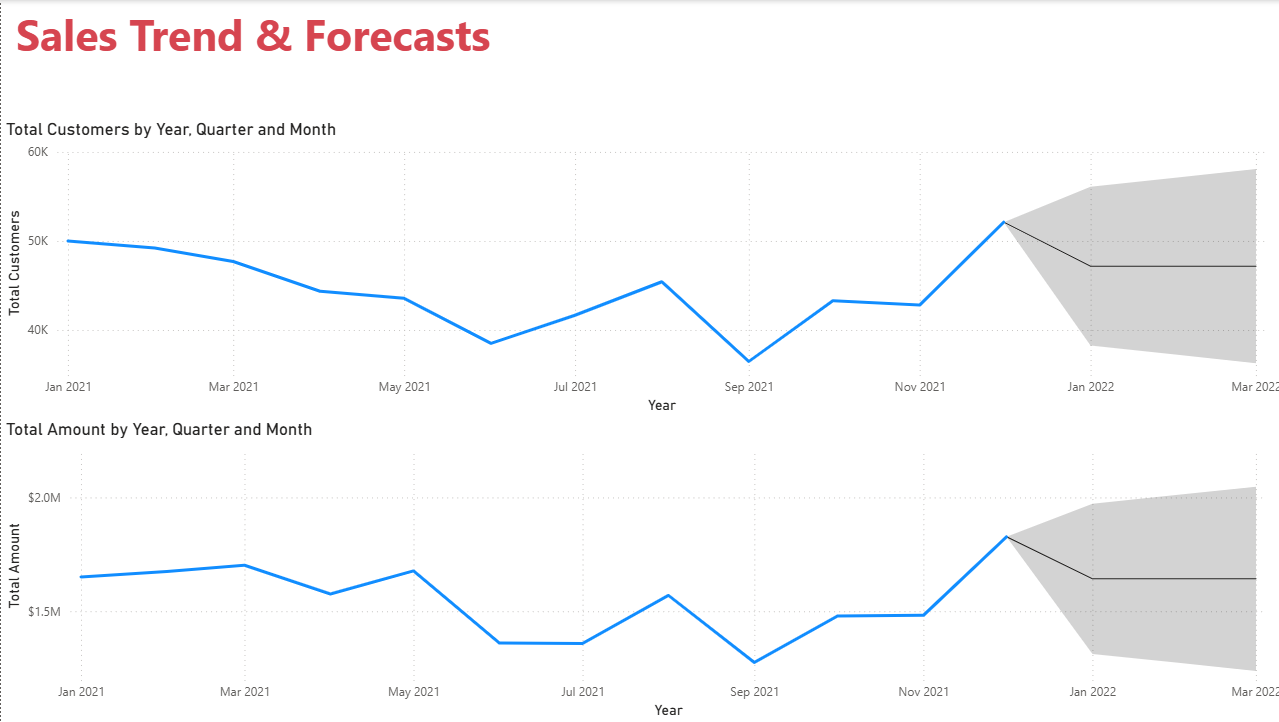

This screenshot's page, from the dashboard's own definition file:
{"tool":"powerbi","page":{"name":"Sales trend and Forecasts","canvas":[1280,720],"ordinal":2},"visuals":[{"type":"textbox","box":[10,0,867,90.8],"z":0},{"type":"lineChart","fields":{"Category":["sales.Date.Variation.Date Hierarchy.Year","sales.Date.Variation.Date Hierarchy.Quarter","sales.Date.Variation.Date Hierarchy.Month","sales.Date.Variation.Date Hierarchy.Day"],"Y":["sales.Total Customers"]},"box":[0,118.2,1280,298.6],"z":1000},{"type":"lineChart","fields":{"Category":["sales.Date.Variation.Date Hierarchy.Year","sales.Date.Variation.Date Hierarchy.Quarter","sales.Date.Variation.Date Hierarchy.Month","sales.Date.Variation.Date Hierarchy.Day"],"Y":["sales.Total Amount"]},"box":[0,416.7,1280,303.5],"z":2000}]}

Visuals, with their boxes in screenshot pixels (x1, y1, x2, y2), scaled from the page's 1280x720 canvas onto the 1279x722 screenshot:
textbox: 10/0/876/91
lineChart - sales.Date.Variation.Date Hierarchy.Year x sales.Date.Variation.Date Hierarchy.Quarter: 0/119/1278/418
lineChart - sales.Date.Variation.Date Hierarchy.Year x sales.Date.Variation.Date Hierarchy.Quarter: 0/418/1278/721
